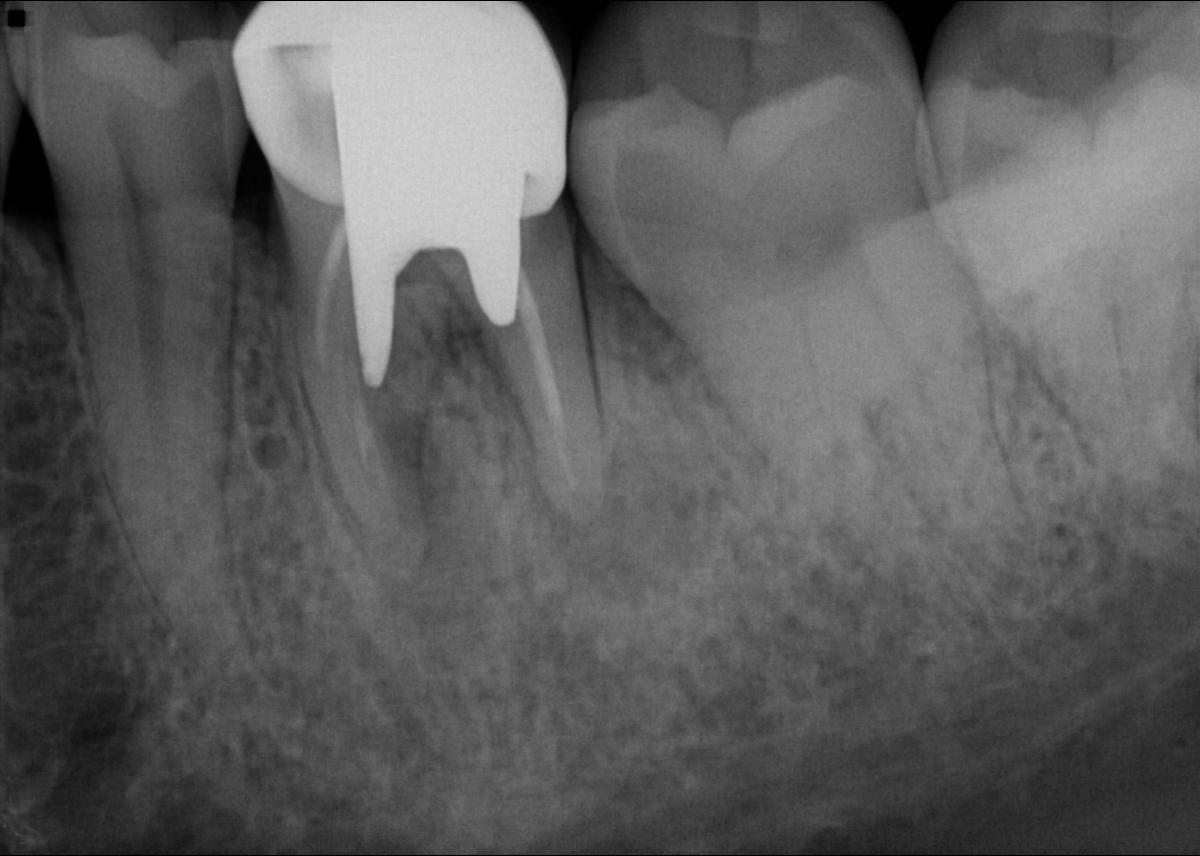Dental Caries: (545, 411, 718, 595), (379, 412, 492, 618), (423, 315, 503, 394)
